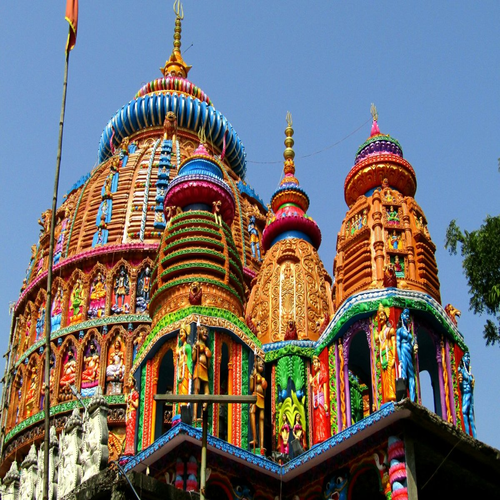Temple: (14, 18, 475, 487)
